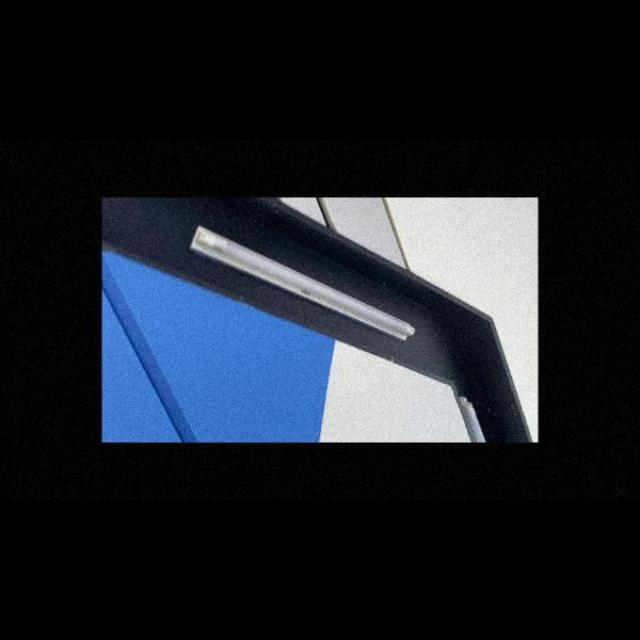Straight-Tube-Fluorescent-Lamp: (186, 223, 417, 345), (450, 388, 492, 442)
